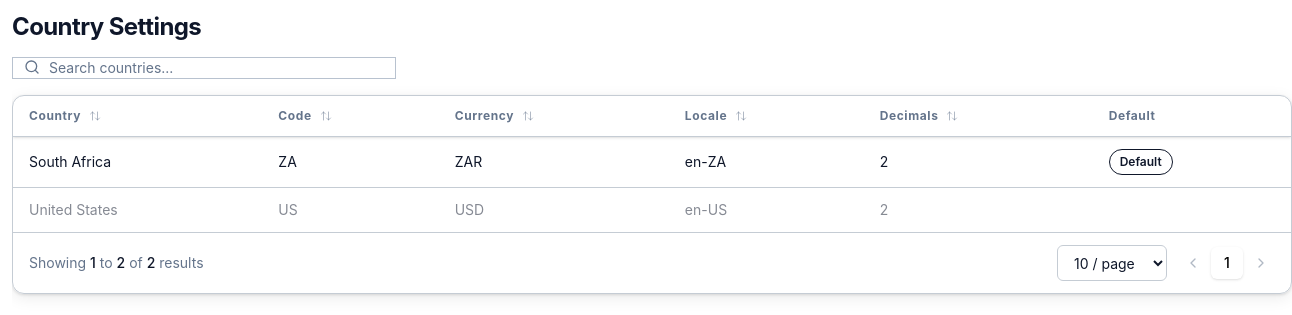
Test case: CountrySettingsPage › search filtering › filters the table to countries matching the search text
In the field with placeholder "Search countries...": x=204, y=68 [12,57,396,79], type "South"
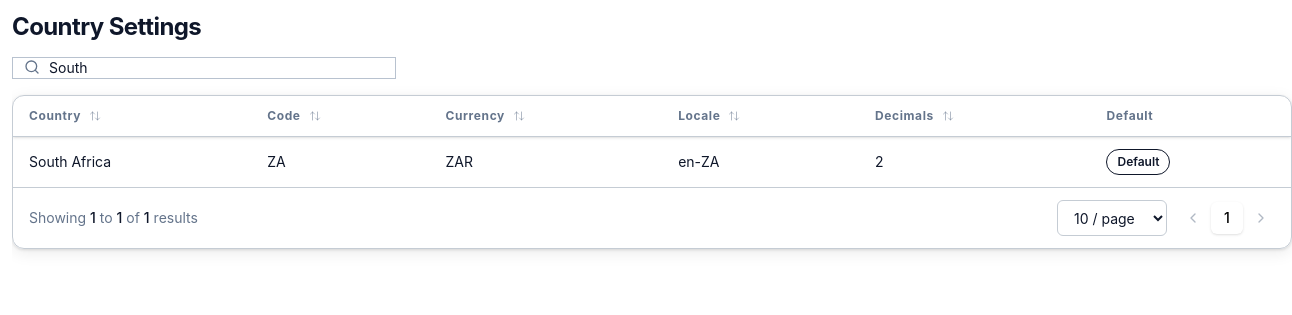
Expected: the text "South Africa" is shown, [29,153,111,170]
Expected: the text "United States" is gone
